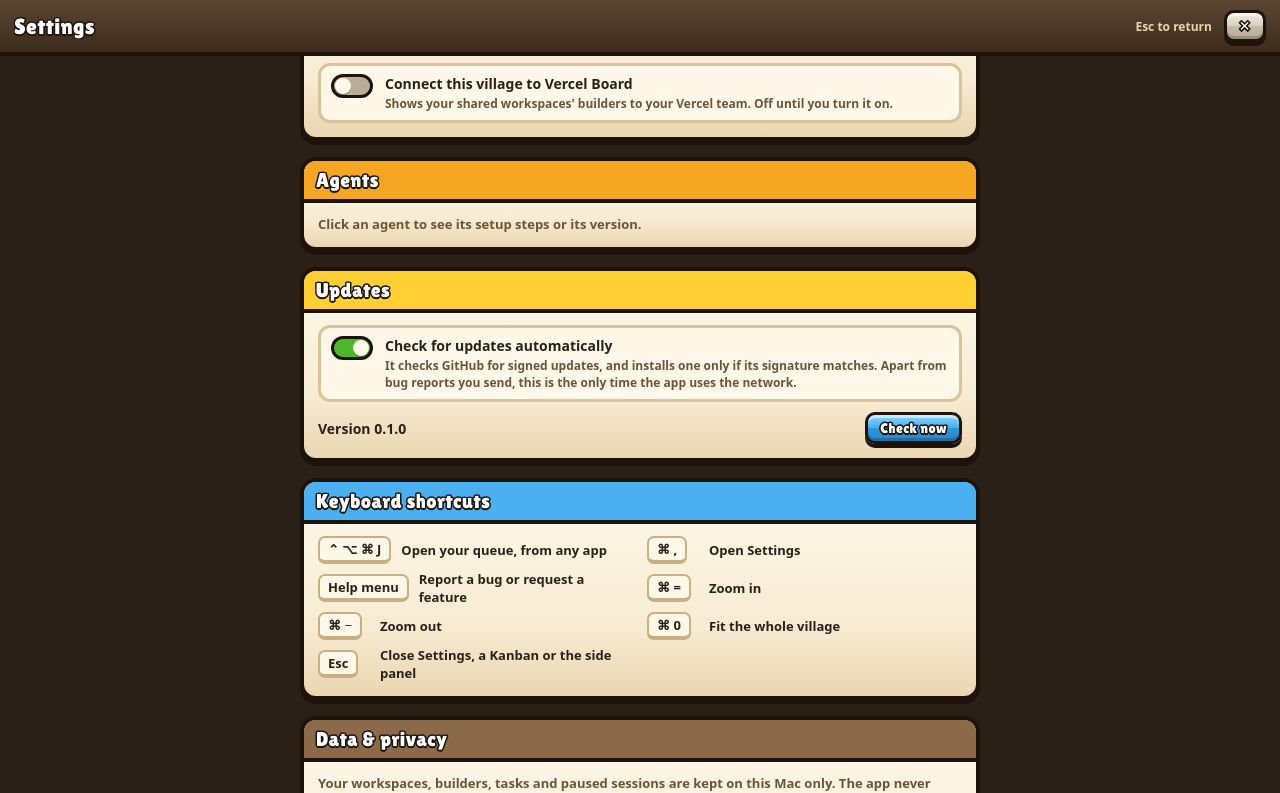
Test: Check now reports the result and hands a found update to the toast
(page scrolled)
Expected: the text "Version 0.1.0" is shown, 318,418 -> 406,438
Click the button "Check now" at (914, 428), box 865,412 -> 962,444
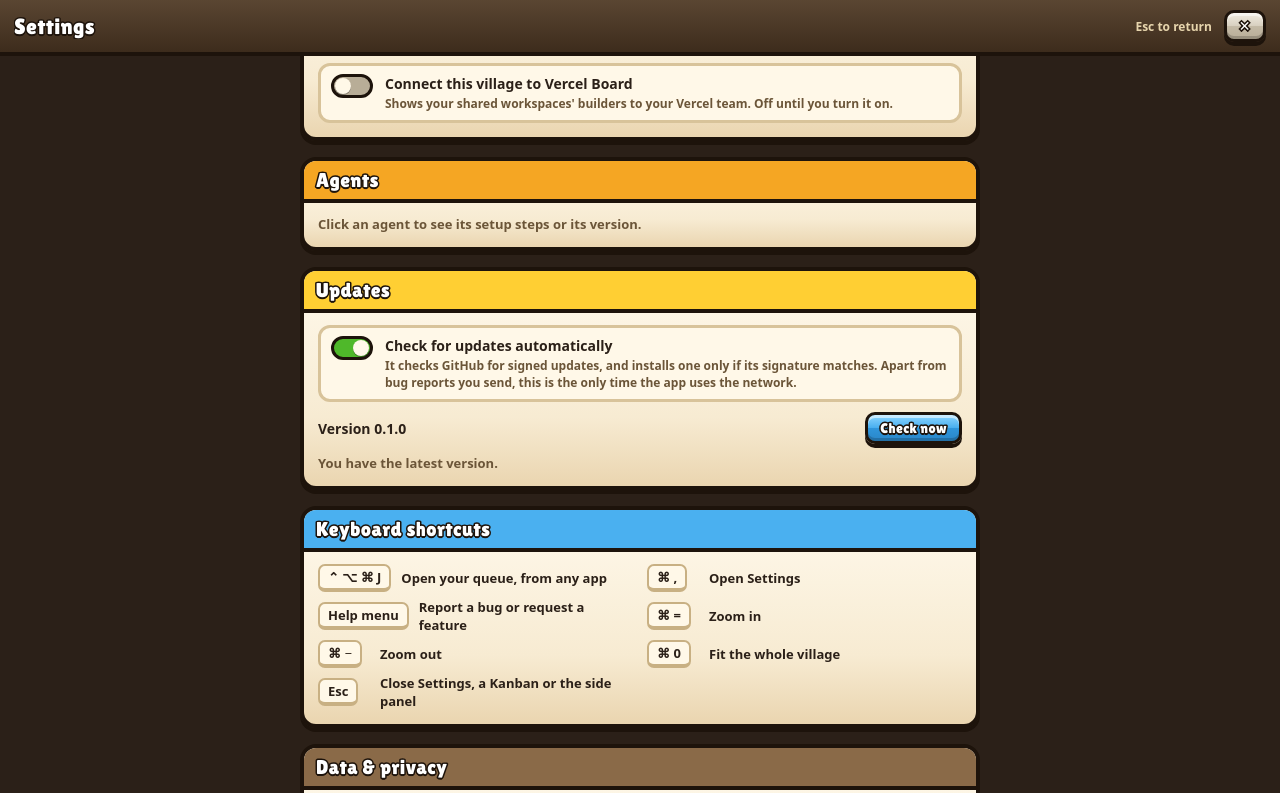
Expected: the message reads "You have the latest version.", 318,454 -> 498,472
Click the button "Check now" at (914, 428), box 865,412 -> 962,444
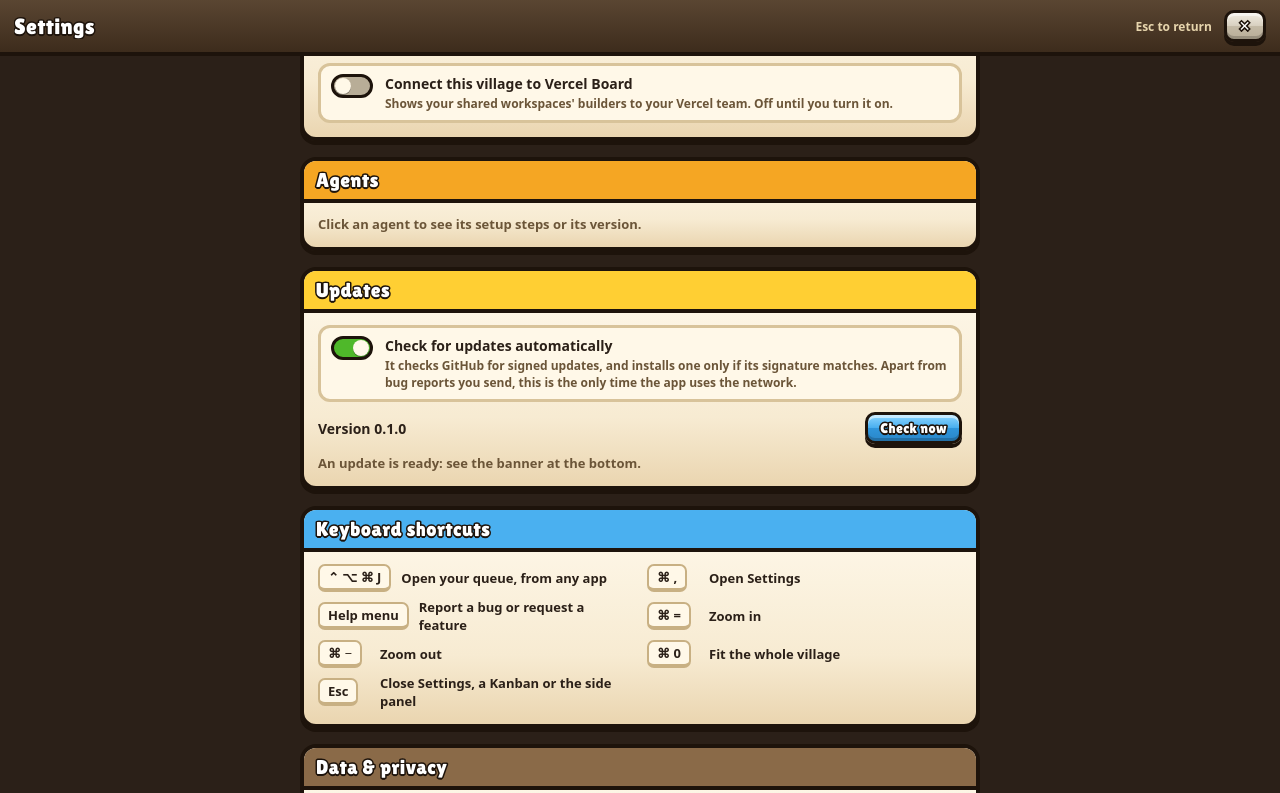
Click the button "Check now" at (914, 428), box 865,412 -> 962,444
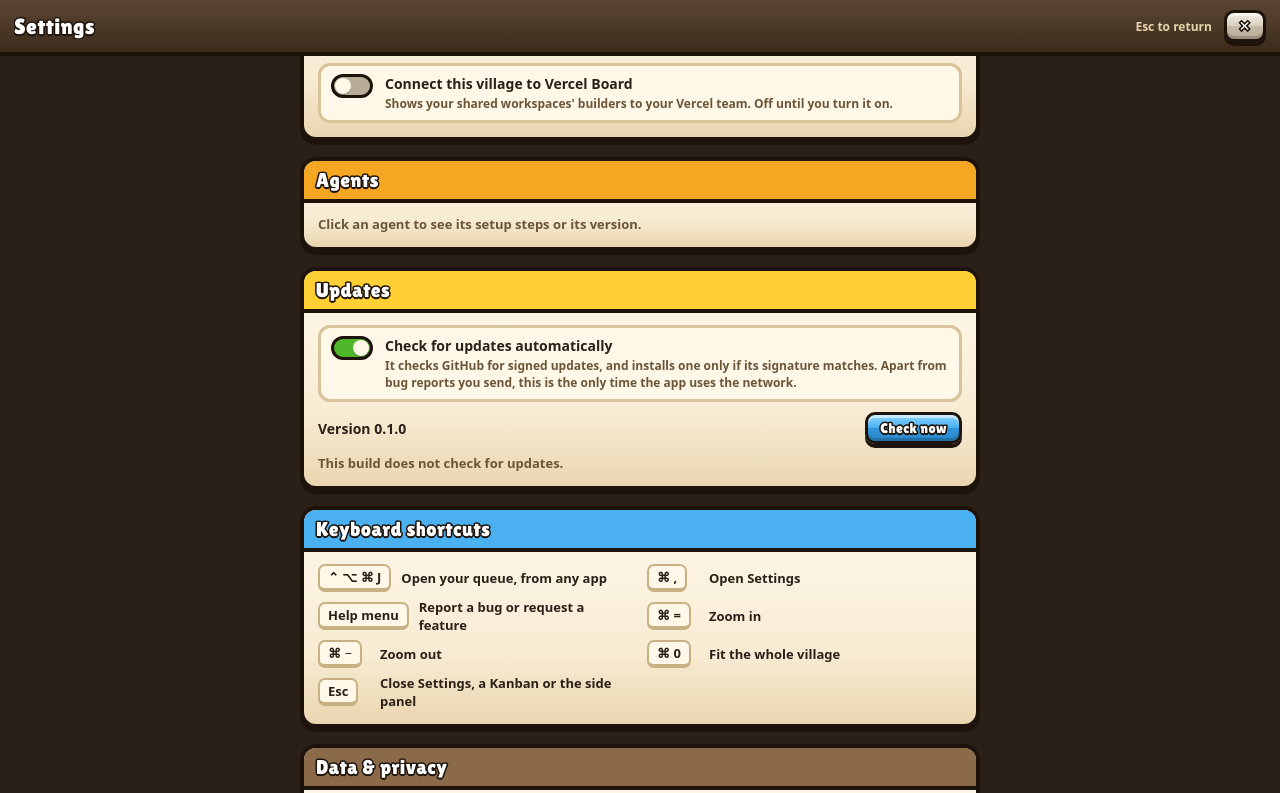
Expected: the message reads "This build does not check for updates.", 318,454 -> 563,472
